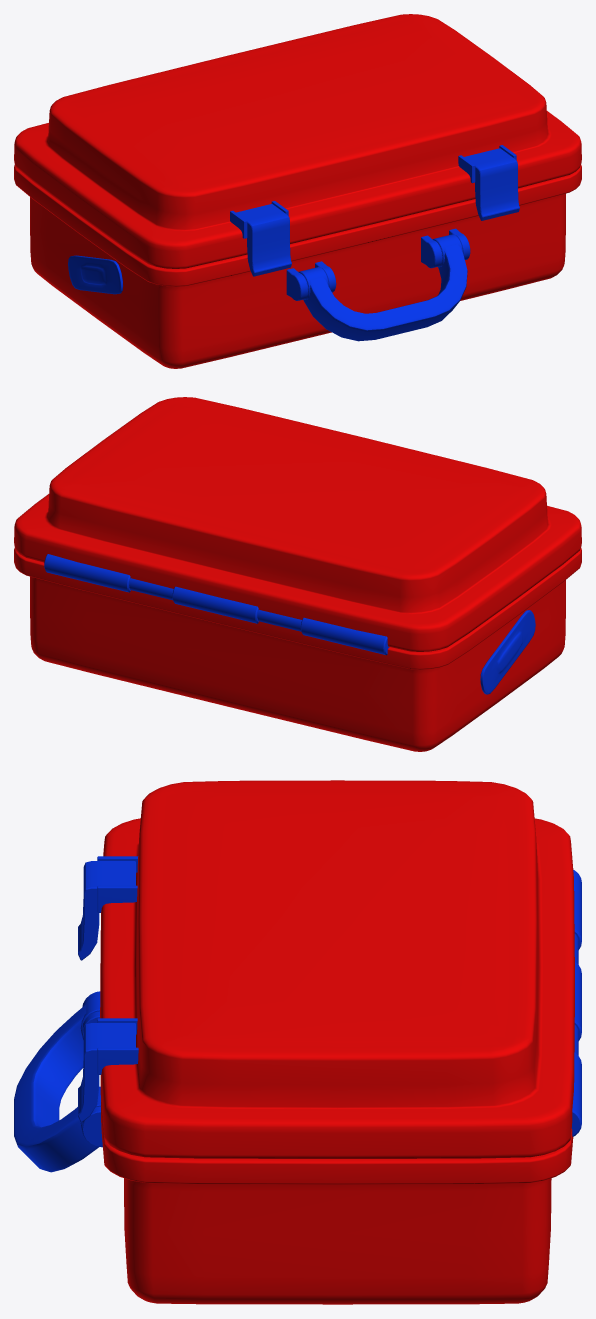
The model's file is Medkit.fbx.
The picture shows the model from 3 angles, top to bottom: view 1: azimuth 30°, elevation 25°; view 2: azimuth 150°, elevation 25°; view 3: azimuth 270°, elevation 25°; orthographic projection. The views are drawn at different scales.
Parts seen in each view (by area): view 1: Medkit2; view 2: Medkit2; view 3: Medkit2.
Part boxes in pixels (x1=…): Medkit2: x1=14, y1=14, x2=581, y2=368; Medkit2: x1=14, y1=397, x2=581, y2=751; Medkit2: x1=14, y1=780, x2=581, y2=1304.
Bounding box in the file's own units: 53.18 × 20.34 × 41.07.
